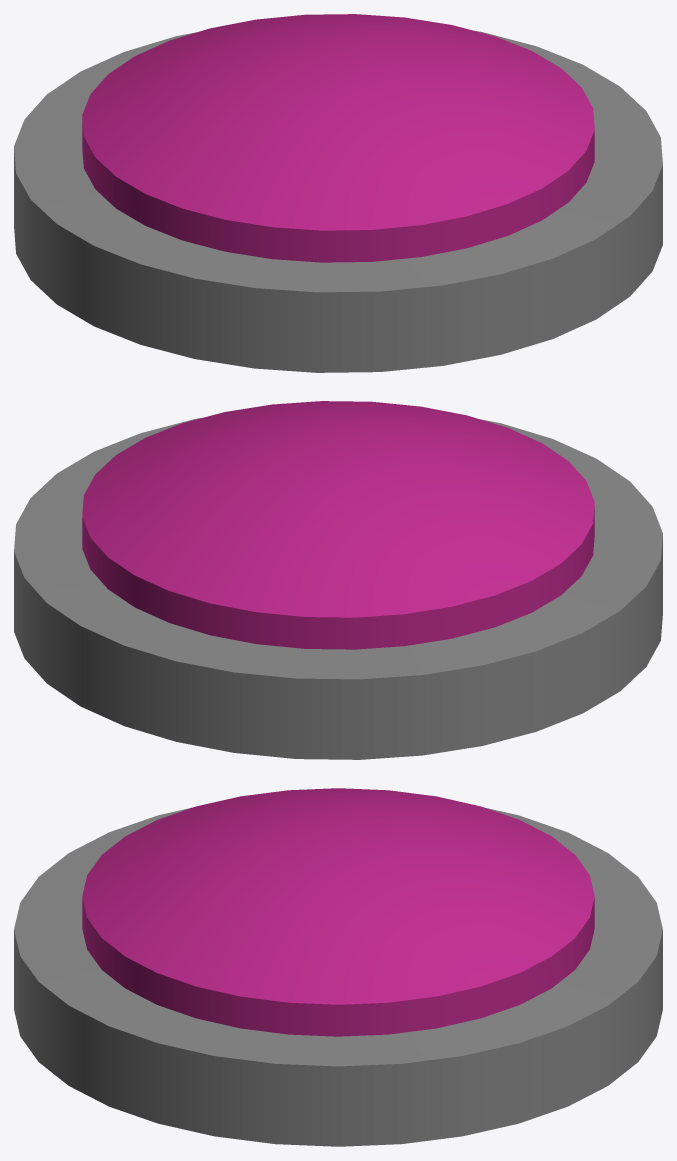
The model's file is BUTTON.fbx.
3 views of the same model, one above another, from view 1: azimuth 30°, elevation 25°; view 2: azimuth 150°, elevation 25°; view 3: azimuth 270°, elevation 25° (orthographic).
Parts seen in each view (by area): view 1: Cylinder; view 2: Cylinder; view 3: Cylinder.
Part boxes in pixels (<box>): Cylinder: <box>14,14,662,372</box>; Cylinder: <box>14,401,662,759</box>; Cylinder: <box>14,788,662,1146</box>.
Bounding box in the file's own units: 23.86 × 6.92 × 23.86.
